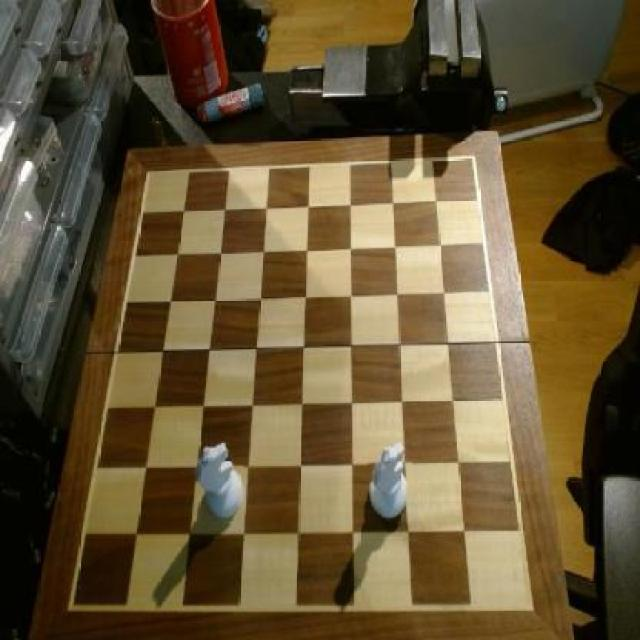white-king: (197, 443, 245, 525), (369, 443, 414, 525)
